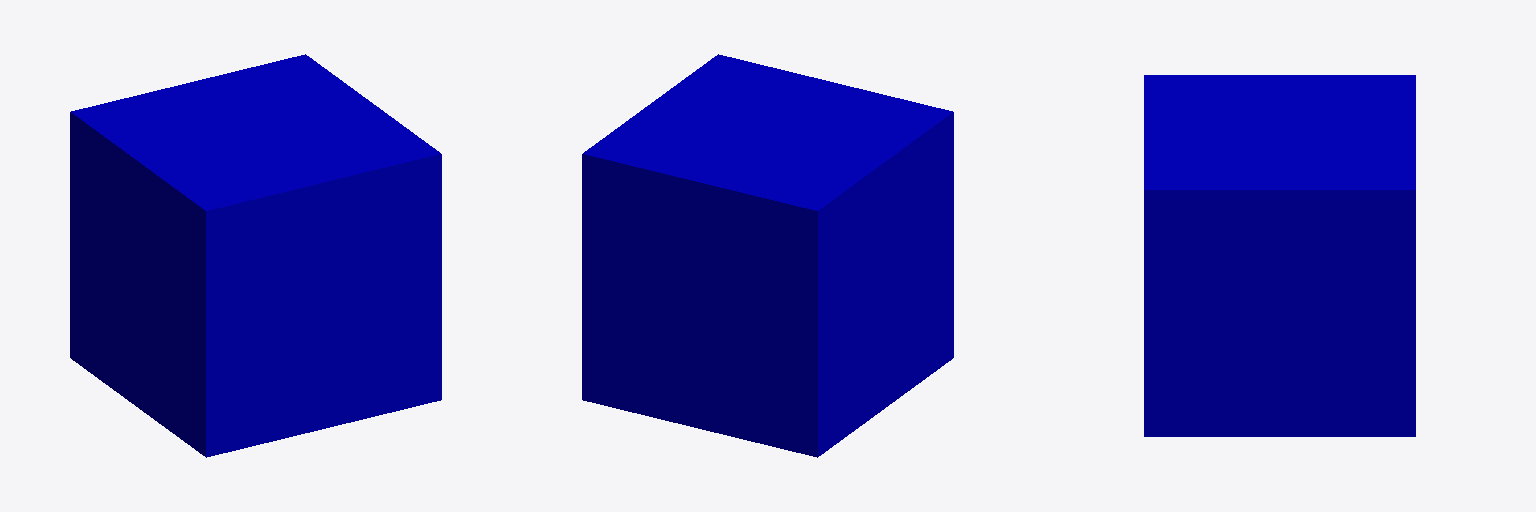
Rendered from BMW_Rim_Completed.obj.
3 views of the same model, side by side, from view 1: azimuth 30°, elevation 25°; view 2: azimuth 150°, elevation 25°; view 3: azimuth 270°, elevation 25° (orthographic).
Visible parts, largest first — view 1: Cube; view 2: Cube; view 3: Cube.
Part boxes in pixels (bbox=[...]): Cube: bbox=[70, 54, 441, 457]; Cube: bbox=[582, 54, 953, 457]; Cube: bbox=[1144, 75, 1415, 436].
Bounding box in the file's own units: 43.72 × 43.73 × 43.72.